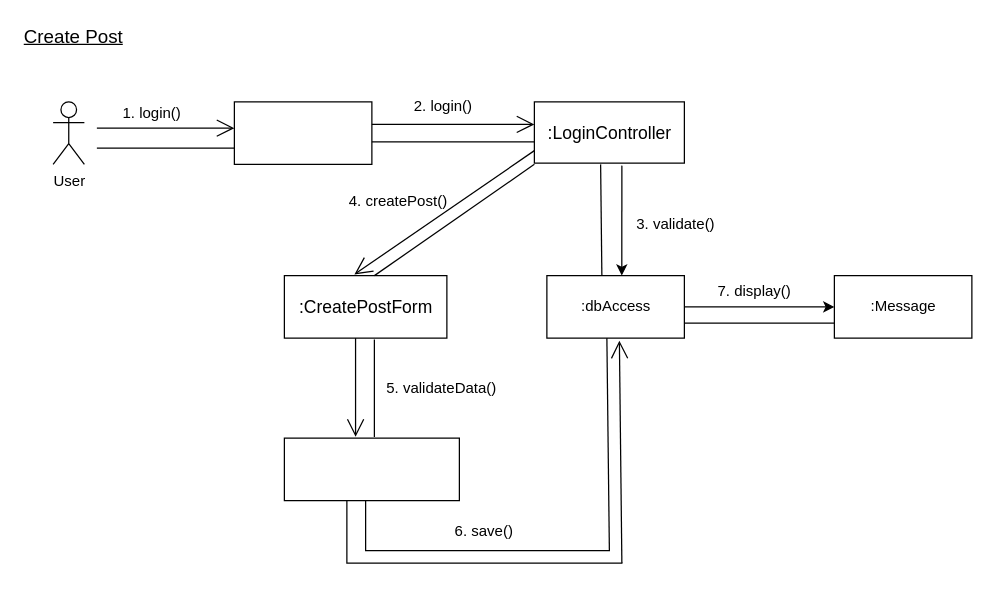
The diagram is 994 pixels wide and 603 high, and some of its shapes have lost their labels. Here are the shapes that lost their labels. From the top down, the box of each, then its label:
(233, 101, 372, 164): :LoginForm
(283, 437, 459, 501): :CreatePostController
